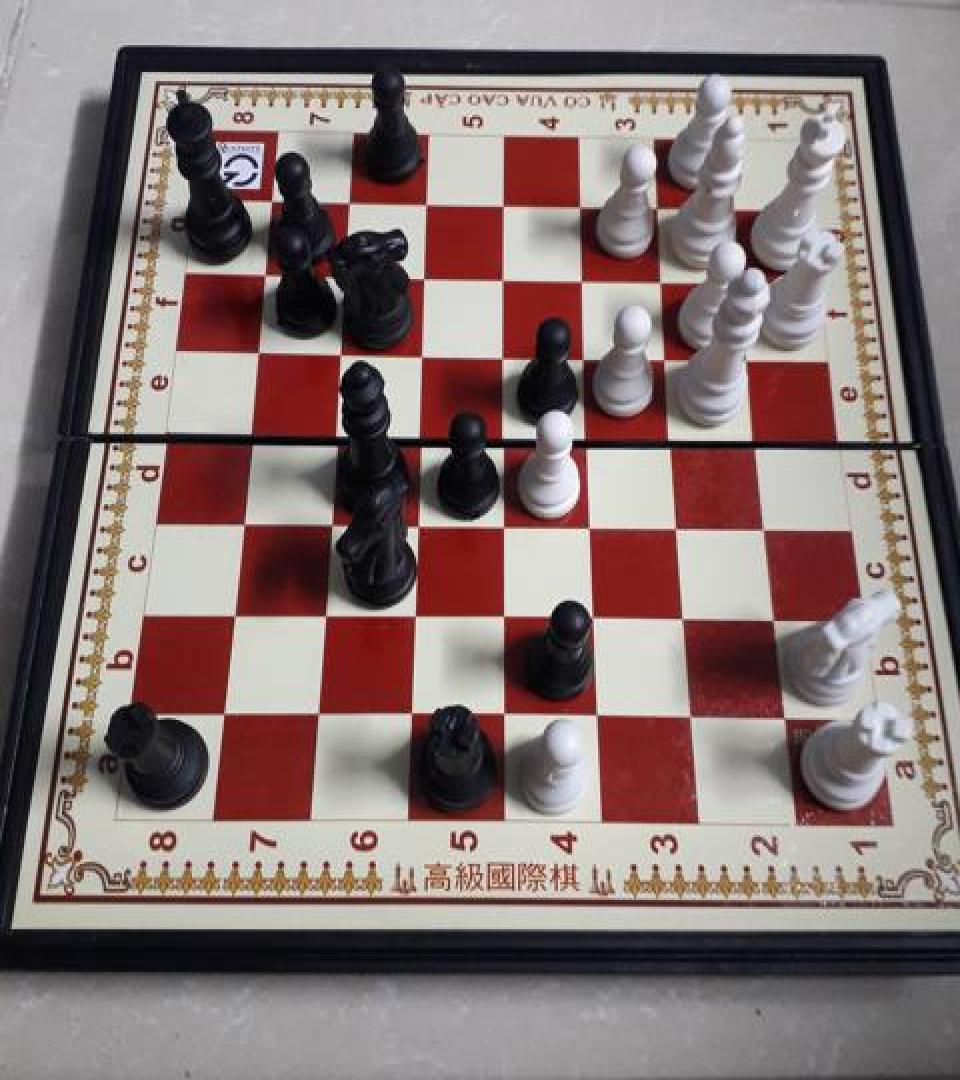xcorner: (208, 697, 240, 734), (303, 697, 335, 734), (398, 697, 430, 734), (492, 698, 524, 735), (586, 698, 618, 735), (679, 700, 711, 736), (772, 700, 804, 736), (216, 598, 248, 634), (309, 598, 341, 634), (400, 600, 432, 636), (492, 600, 524, 636), (582, 601, 614, 637), (673, 602, 705, 638), (763, 602, 795, 638), (224, 505, 256, 541), (314, 506, 346, 542), (403, 508, 435, 544), (491, 508, 523, 544), (579, 508, 611, 544), (667, 510, 699, 546), (754, 511, 786, 547), (232, 418, 264, 454), (318, 418, 350, 454), (405, 420, 437, 456), (490, 421, 522, 457), (576, 422, 608, 458), (661, 423, 693, 459), (746, 424, 778, 460), (239, 335, 271, 371), (323, 336, 355, 372), (407, 338, 439, 374), (490, 338, 522, 374), (573, 340, 605, 376), (656, 341, 688, 377), (738, 342, 770, 378), (245, 258, 277, 294), (327, 259, 359, 295), (408, 260, 440, 296), (489, 261, 521, 297), (570, 263, 602, 299), (651, 264, 683, 300), (731, 266, 763, 302), (251, 184, 283, 220), (410, 187, 442, 223), (489, 188, 521, 224), (568, 190, 600, 226), (646, 191, 678, 227), (331, 186, 363, 221), (724, 193, 756, 228)
